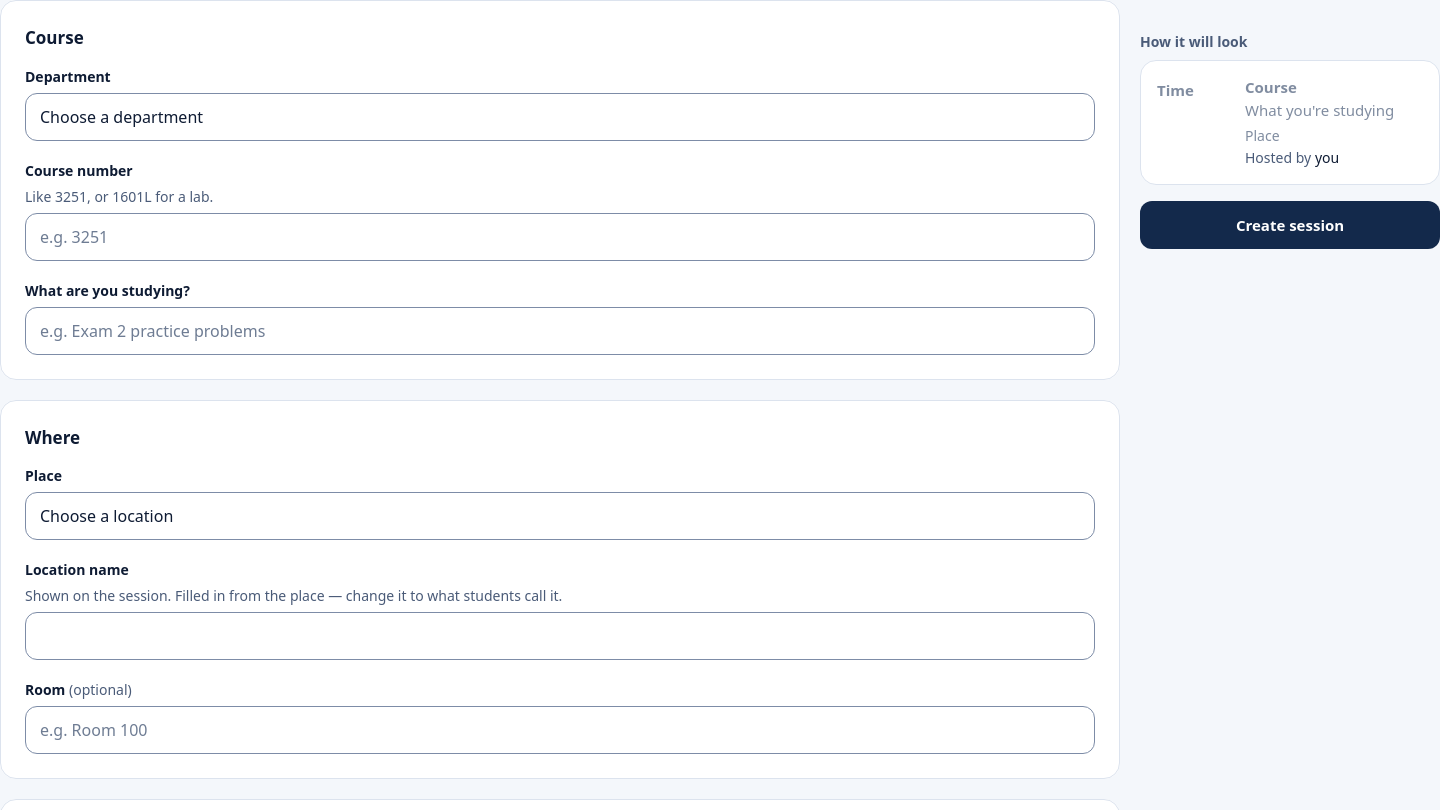
<CreateSessionForm> fields › prefills the location name from the picker, but never over the host's own
Select "Featheringill Hall" in the dropdown labelled "Place" at (560, 516), box [25,492,1095,540]
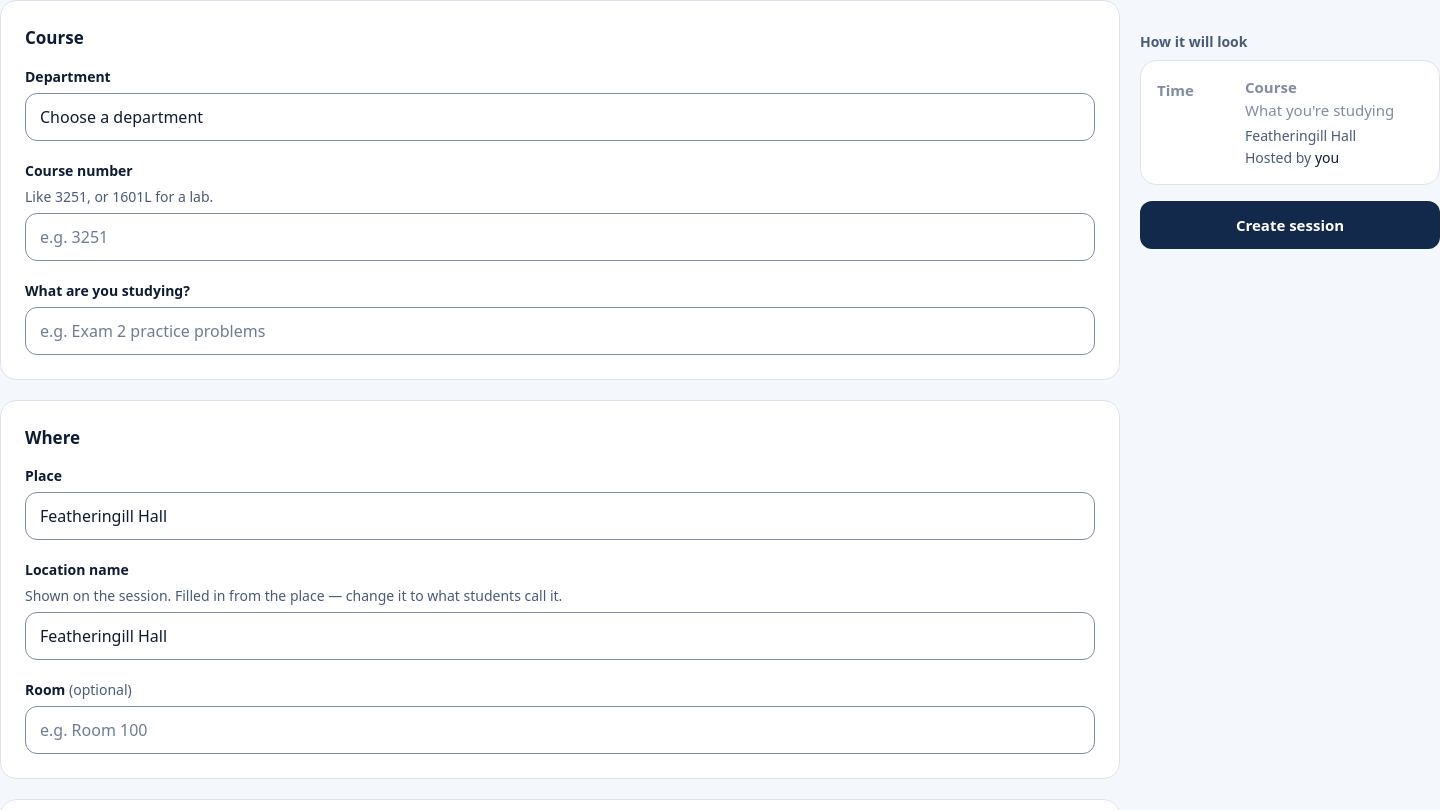
Expected: the field labelled "Location name" holds "Featheringill Hall"
Replace the text in the field labelled "Location name" with "Featheringill, 2nd floor" at (560, 636), box [25,612,1095,660]
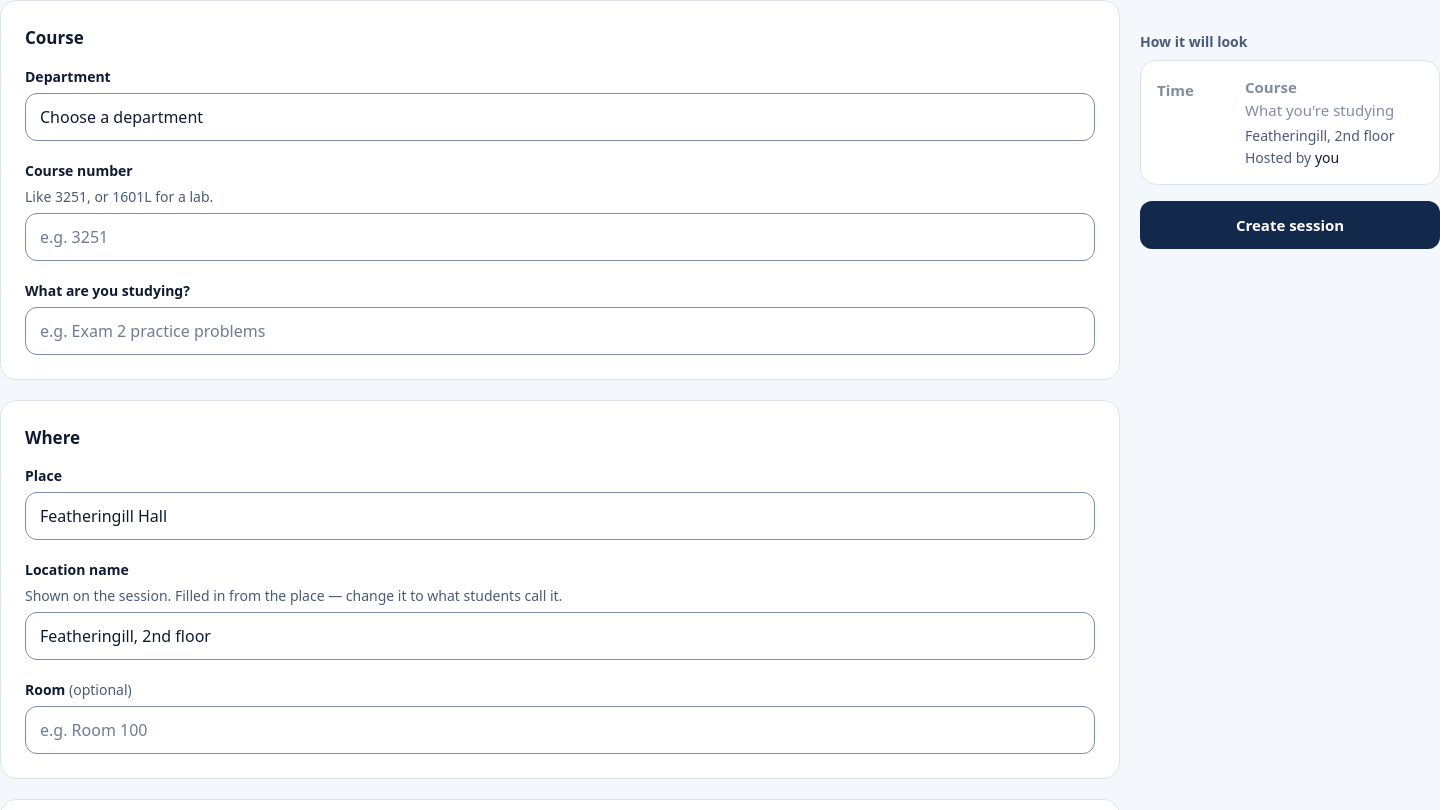
Select "Central Library" in the dropdown labelled "Place" at (560, 516), box [25,492,1095,540]
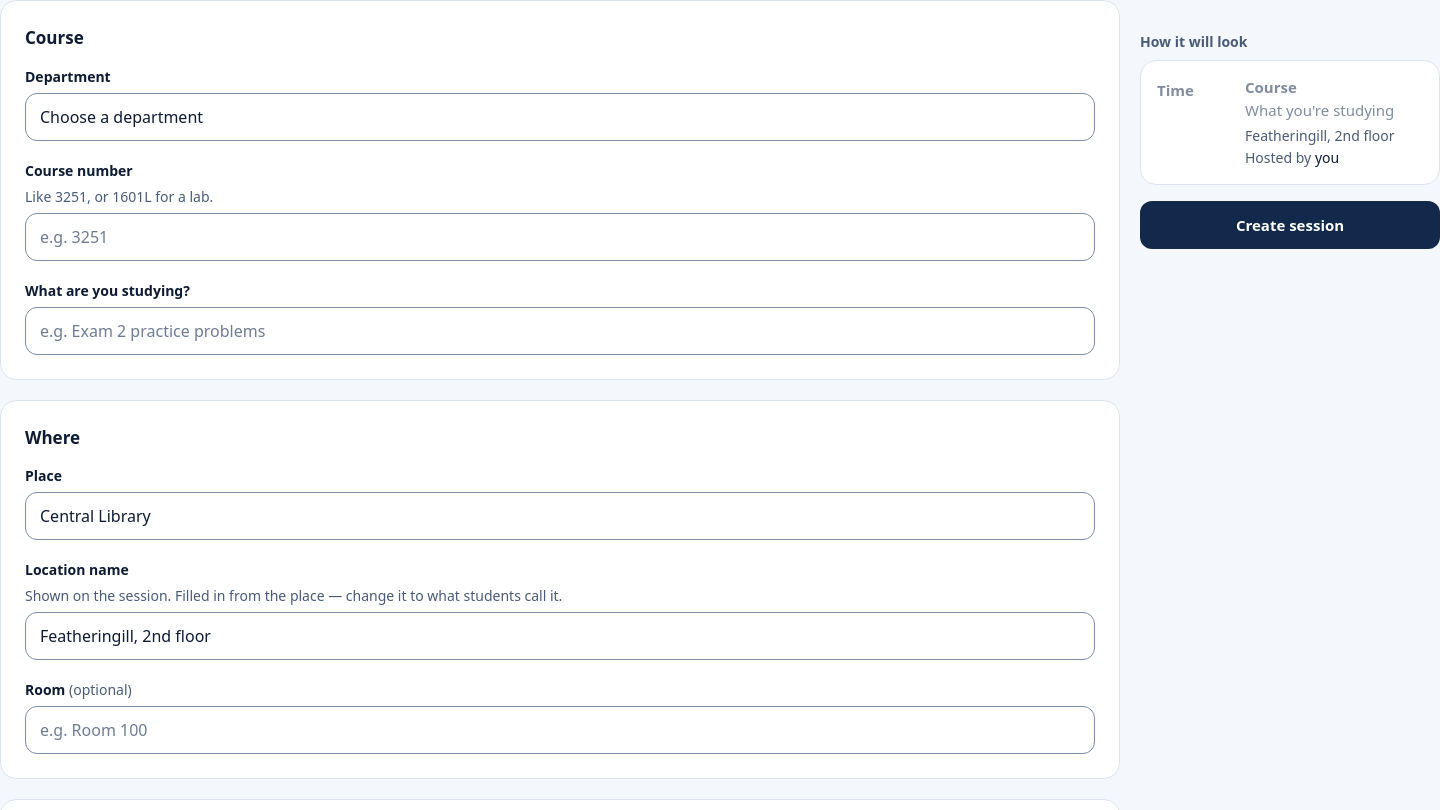
Clear the field labelled "Location name" at (560, 636), box [25,612,1095,660]
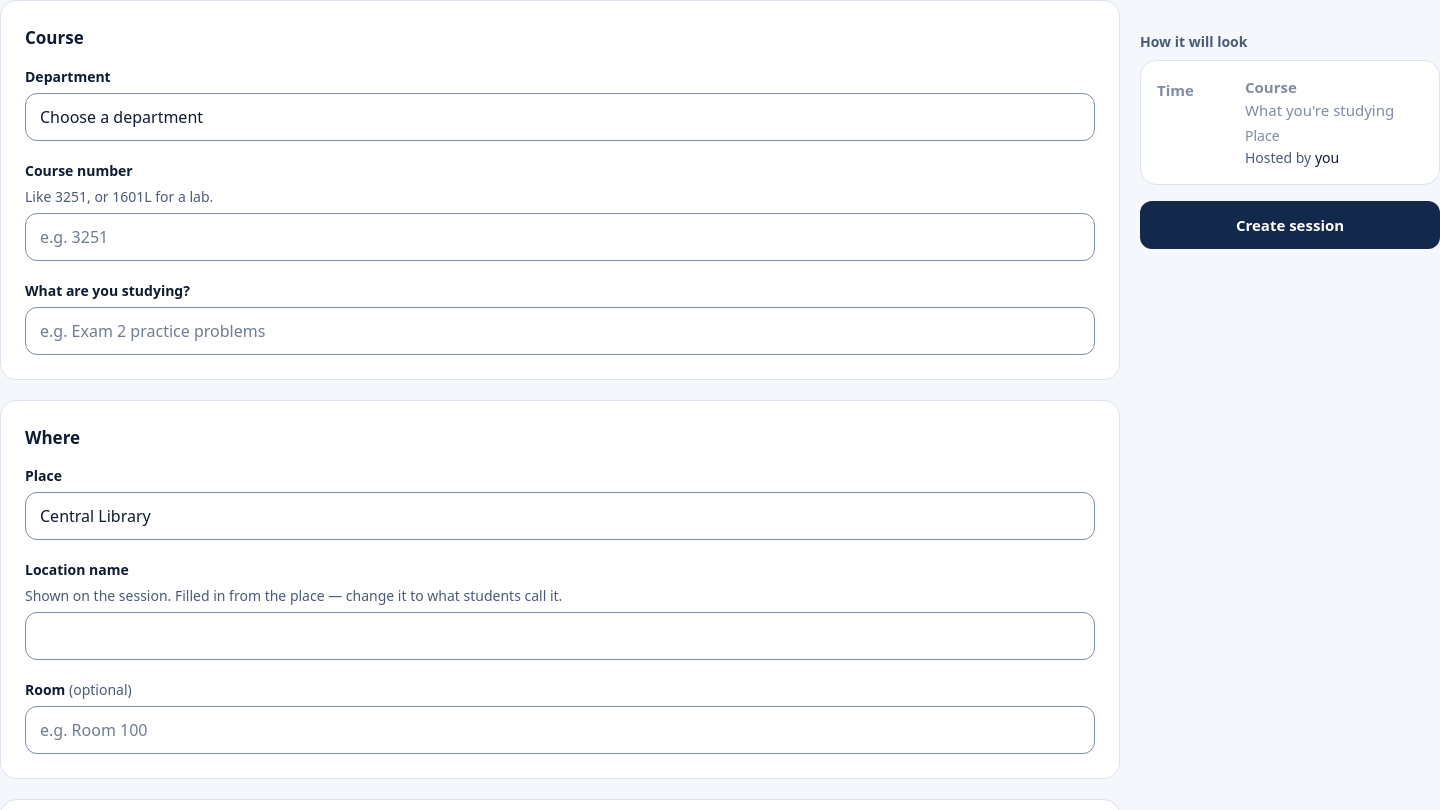
Select "Central Library" in the dropdown labelled "Place" at (560, 516), box [25,492,1095,540]
Select "Hillsboro Village café" in the dropdown labelled "Place" at (560, 516), box [25,492,1095,540]
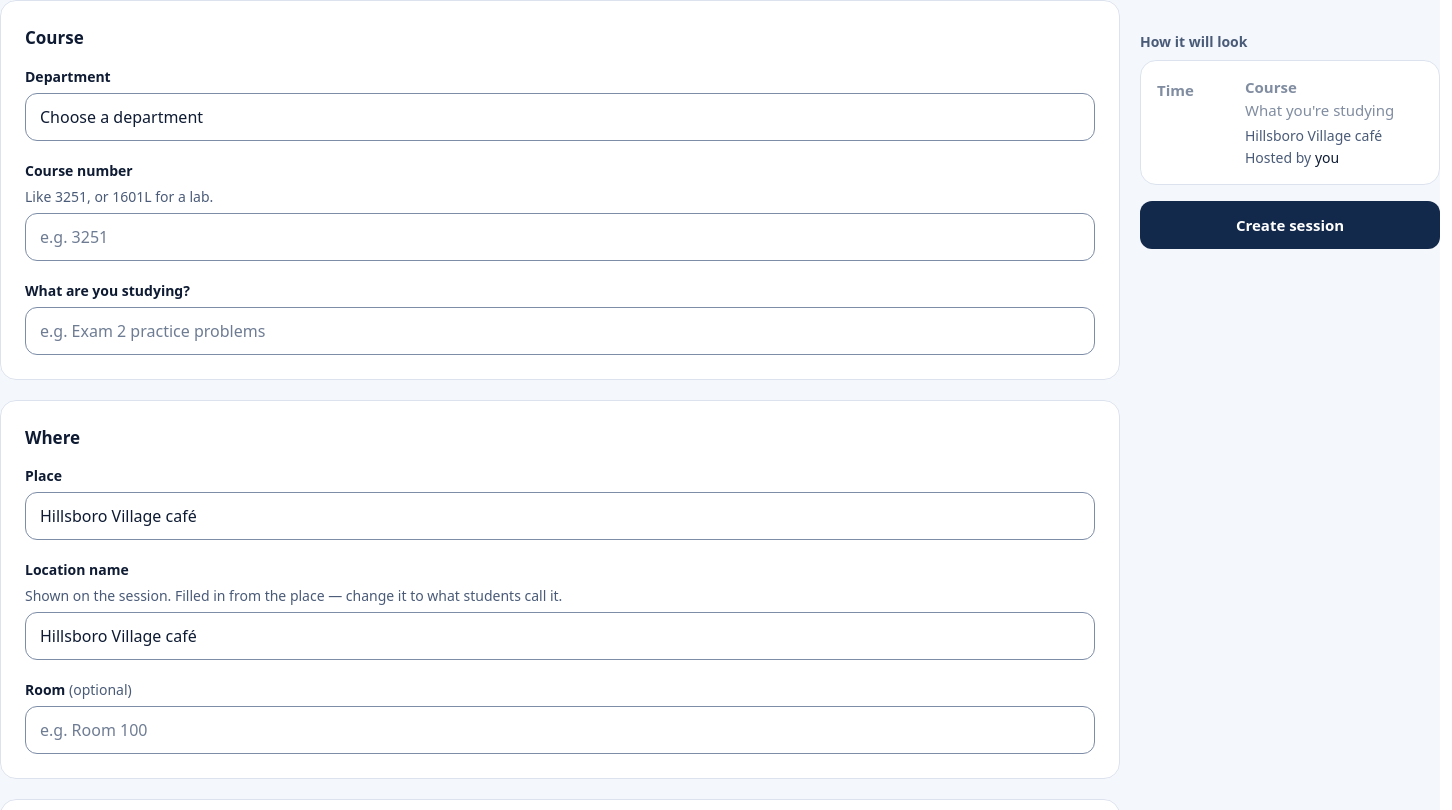
Expected: the field labelled "Location name" holds "Hillsboro Village café", [25,612,1095,660]
